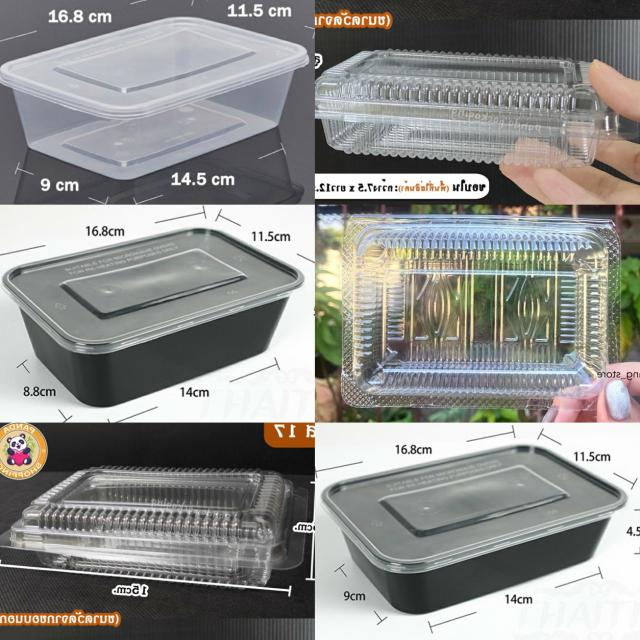plastik: (3, 228, 304, 406), (343, 215, 620, 407), (322, 445, 626, 614), (0, 17, 308, 180), (316, 51, 636, 167), (0, 467, 308, 586)
